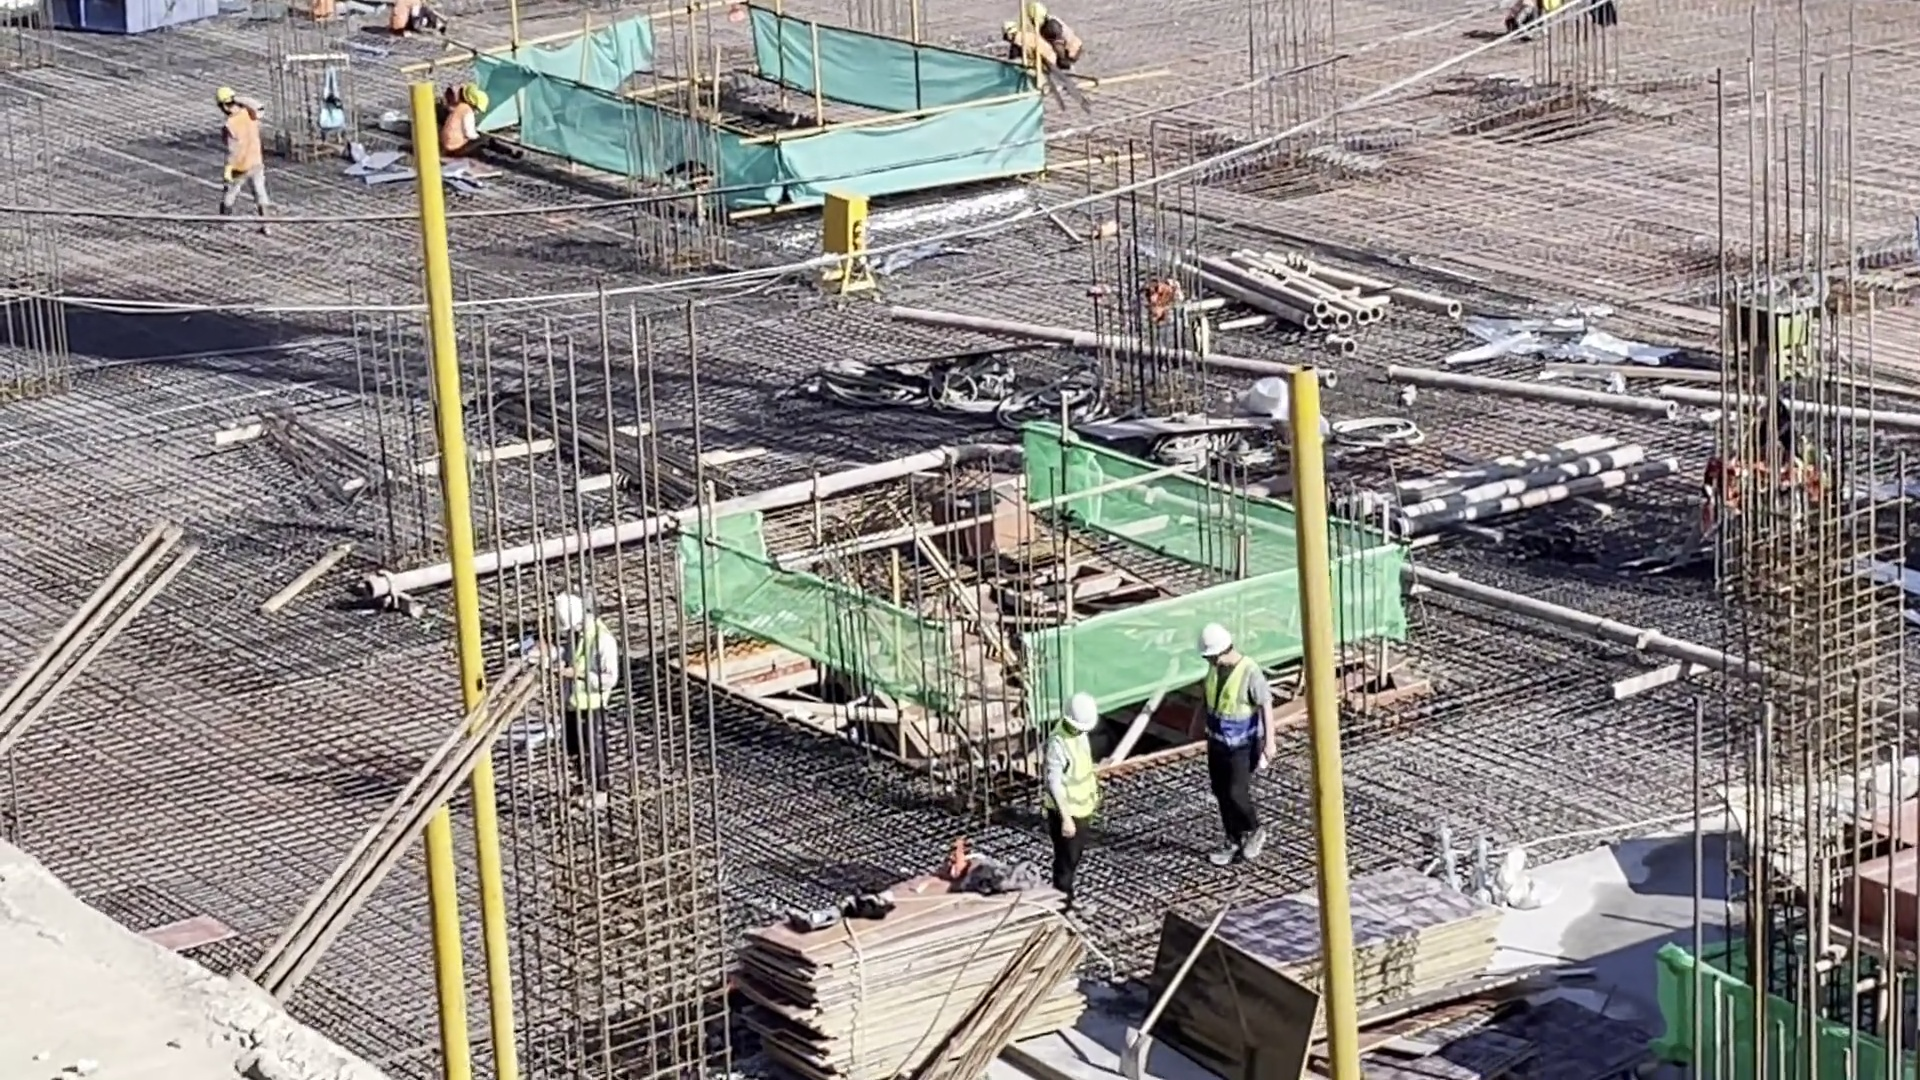board: (743, 853, 1089, 1080), (1169, 866, 1500, 1030)
ebox: (818, 184, 874, 292)
helmet: (1059, 694, 1100, 731), (1199, 623, 1233, 662), (550, 593, 587, 625), (465, 82, 488, 110), (214, 86, 237, 108), (998, 21, 1021, 42), (1031, 1, 1055, 16), (1545, 1, 1559, 12)
person: (1196, 628, 1278, 868), (545, 590, 622, 816), (1038, 690, 1110, 908), (210, 82, 274, 232), (440, 76, 497, 154), (997, 17, 1049, 90), (1028, 1, 1077, 67), (382, 4, 444, 42), (1502, 2, 1563, 39)
vest: (1206, 660, 1263, 746), (1046, 727, 1099, 819), (565, 627, 614, 717), (224, 112, 265, 180), (443, 102, 475, 148), (1019, 33, 1051, 72), (1054, 18, 1079, 60), (392, 4, 408, 28)
